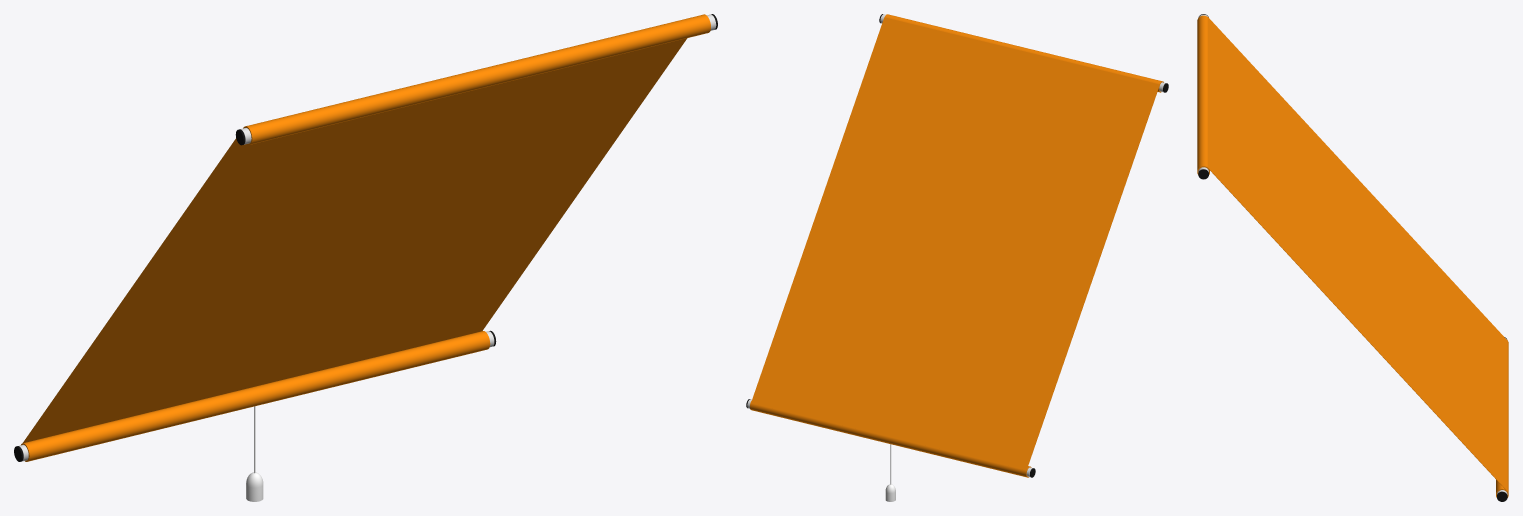
File: Dachfenster genormt (Velux, Roto, Braas, etc.).glb
3 renders of one model, left to right at view 1: azimuth 30°, elevation 25°; view 2: azimuth 150°, elevation 25°; view 3: azimuth 270°, elevation 25°, orthographic. The views are drawn at different scales.
Parts seen in each view (by area): view 1: Stoff.001, Stoffende.003, Stoffende.002; view 2: Stoff.001, Stoffende.003, Stoffende.002; view 3: Stoff.001, Stoffende.002, Stoffende.003.
Boxes of the visible parts, x1=… form: Stoff.001: x1=23, y1=38, x2=687, y2=442; Stoffende.003: x1=21, y1=331, x2=490, y2=461; Stoffende.002: x1=244, y1=14, x2=710, y2=144; Stoff.001: x1=751, y1=17, x2=1159, y2=469; Stoffende.003: x1=750, y1=401, x2=1031, y2=477; Stoffende.002: x1=885, y1=14, x2=1163, y2=92; Stoff.001: x1=1208, y1=17, x2=1506, y2=490; Stoffende.002: x1=1197, y1=15, x2=1209, y2=174; Stoffende.003: x1=1496, y1=340, x2=1508, y2=497.
Size of the model in its own units: 0.9984 by 1.19 by 0.8429.
4 materials, 1 textured.
